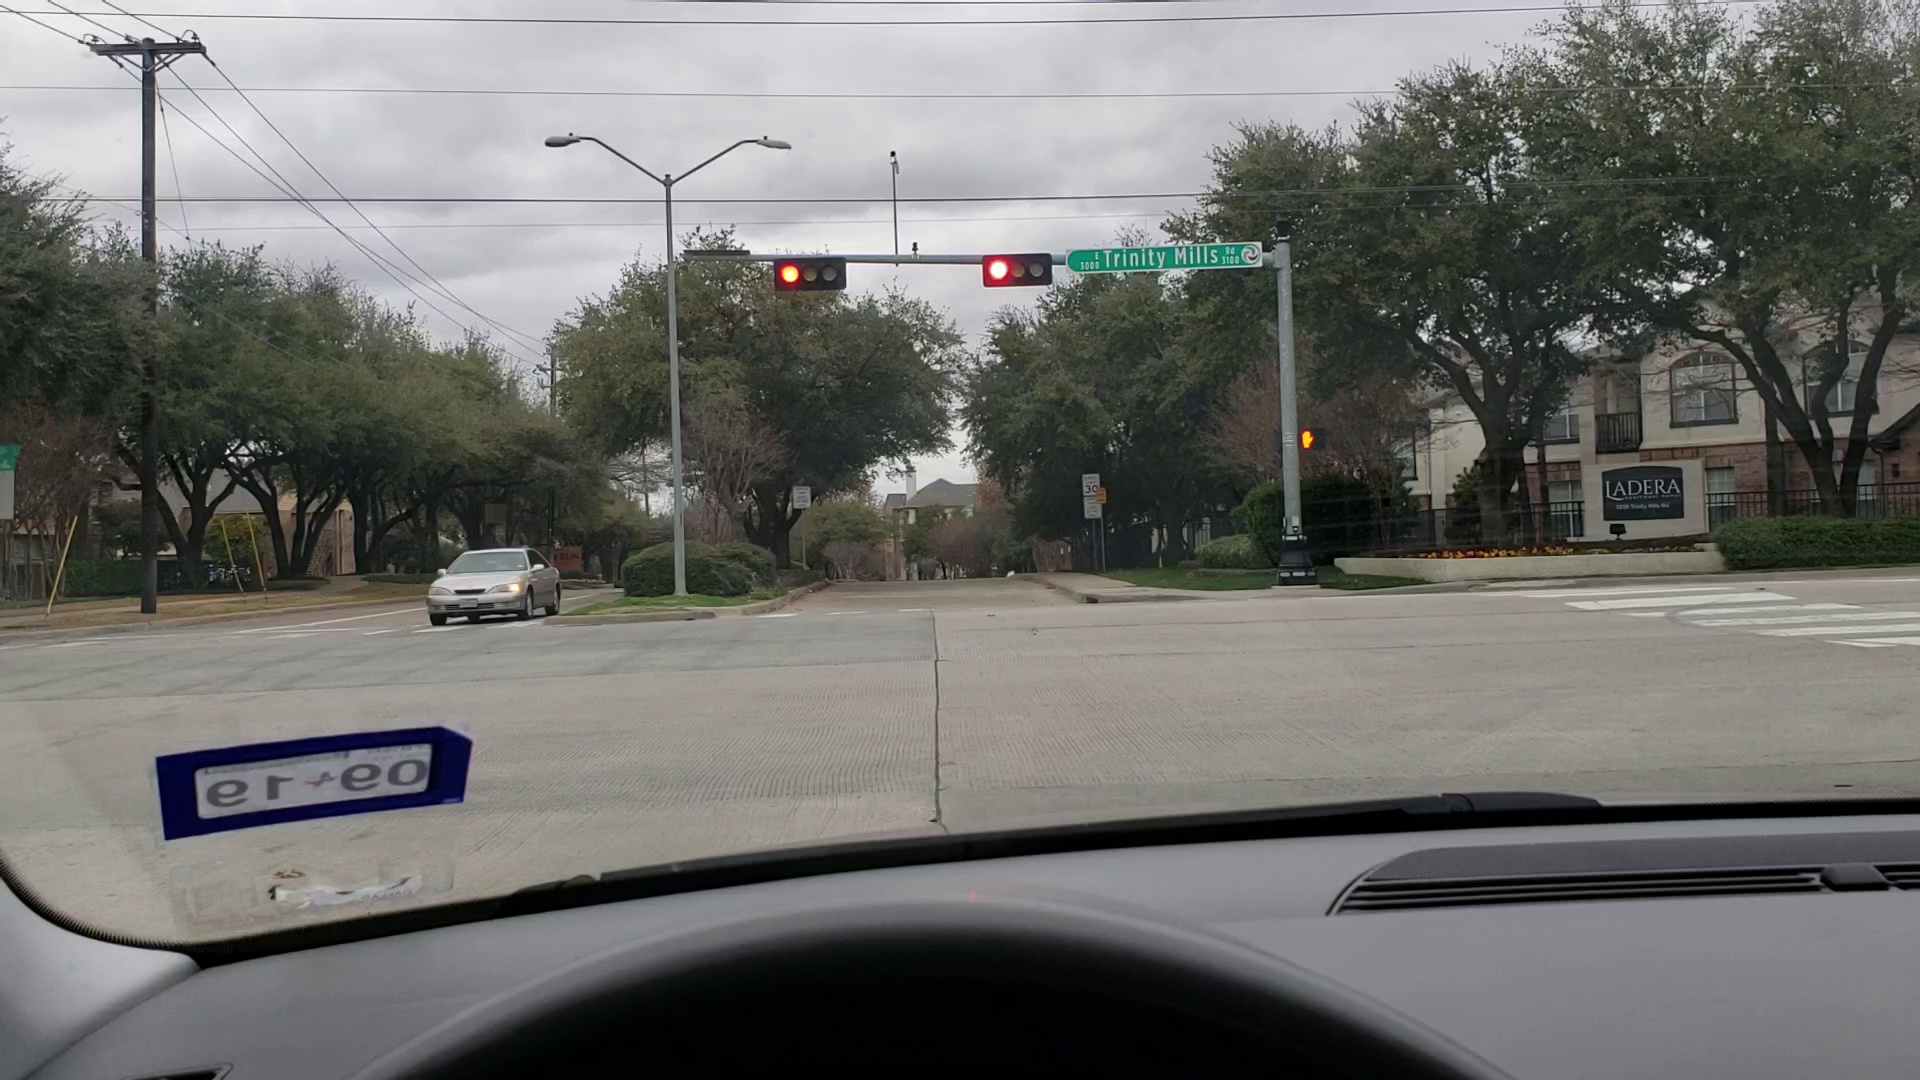car: (425, 539, 564, 618)
traffic light: (982, 251, 1059, 286), (770, 258, 847, 291)
